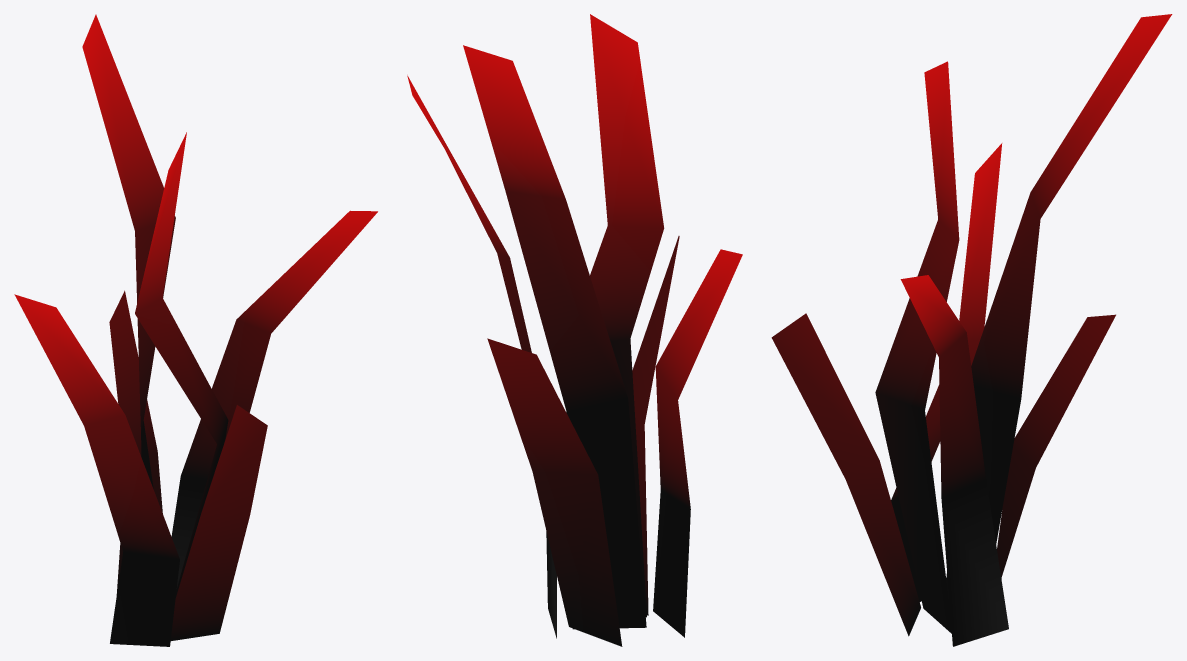
The model's file is Stylized_Grass.fbx.
3 views of the same model, side by side, from view 1: azimuth 30°, elevation 25°; view 2: azimuth 150°, elevation 25°; view 3: azimuth 270°, elevation 25° (orthographic). The views are drawn at different scales.
Parts seen in each view (by area): view 1: Grass_Group_2_1_NormalUp; view 2: Grass_Group_2_1_NormalUp; view 3: Grass_Group_2_1_NormalUp.
Boxes of the visible parts, left/top/right/bottom form: Grass_Group_2_1_NormalUp: left=14, top=14, right=377, bottom=646; Grass_Group_2_1_NormalUp: left=407, top=14, right=742, bottom=646; Grass_Group_2_1_NormalUp: left=771, top=14, right=1172, bottom=646.
Bounding box in the file's own units: 57.98 × 93.28 × 54.79.
